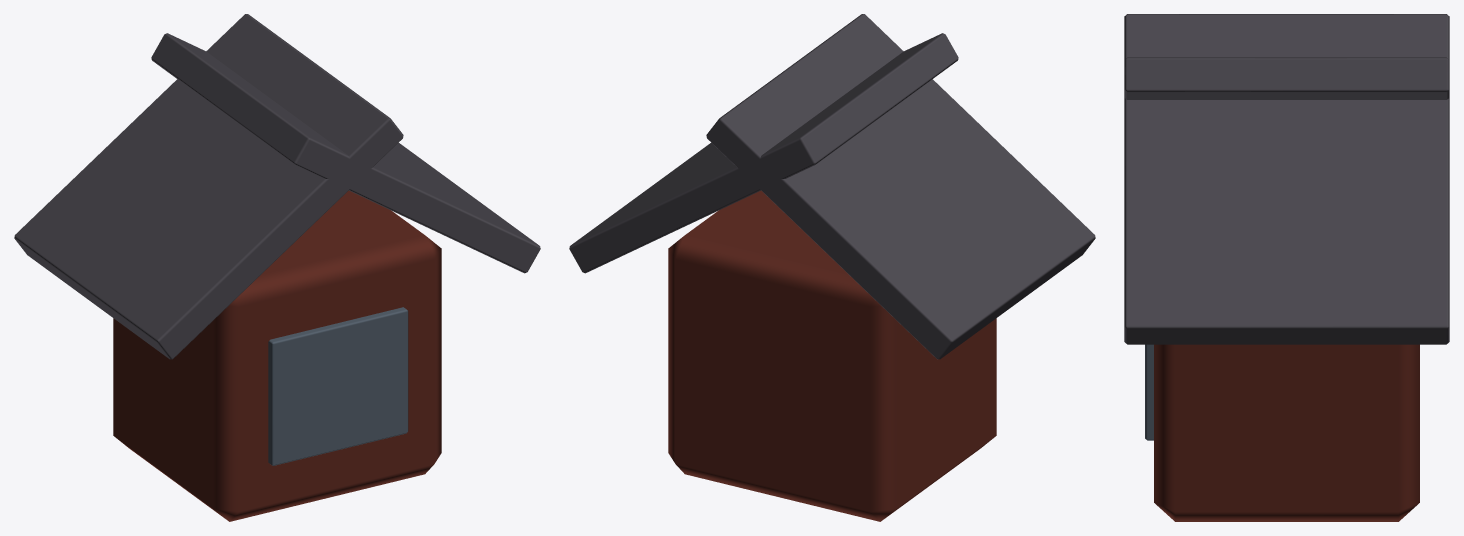
Rendered from railcar-roof-dormer.9db58fab.glb.
3 views of the same model, side by side, from view 1: azimuth 30°, elevation 25°; view 2: azimuth 150°, elevation 25°; view 3: azimuth 270°, elevation 25° (orthographic). The views are drawn at different scales.
Visible parts, largest first — view 1: body; view 2: body; view 3: body.
Boxes of the visible parts, left/top/right/bottom form: body: left=14, top=14, right=540, bottom=521; body: left=569, top=14, right=1095, bottom=521; body: left=1124, top=14, right=1449, bottom=521.
Size of the model in its own units: 0.8402 by 0.8071 by 0.55.
